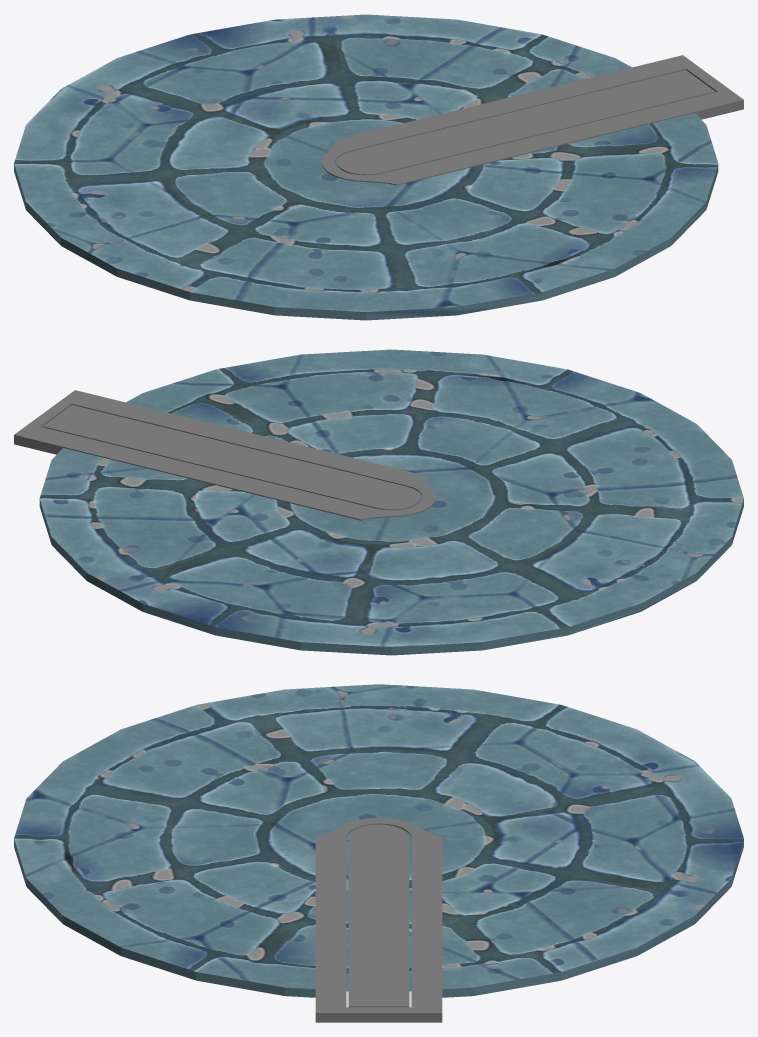
File: Arena 1.fbx
3 renders of one model, top to bottom at view 1: azimuth 30°, elevation 25°; view 2: azimuth 150°, elevation 25°; view 3: azimuth 270°, elevation 25°, orthographic. The views are drawn at different scales.
Parts seen in each view (by area): view 1: Cylinder, Circle.001; view 2: Cylinder, Circle.001; view 3: Cylinder, Circle.001.
Boxes of the visible parts, x1,y1,x2,y2 form: Cylinder: (14,14,718,320); Circle.001: (321,55,743,185); Cylinder: (39,349,743,655); Circle.001: (14,390,436,520); Cylinder: (14,684,743,997); Circle.001: (315,818,442,1022).
Bounding box in the file's own units: 20426 × 285 × 19102.
Materials: 3 (1 with a texture image).
